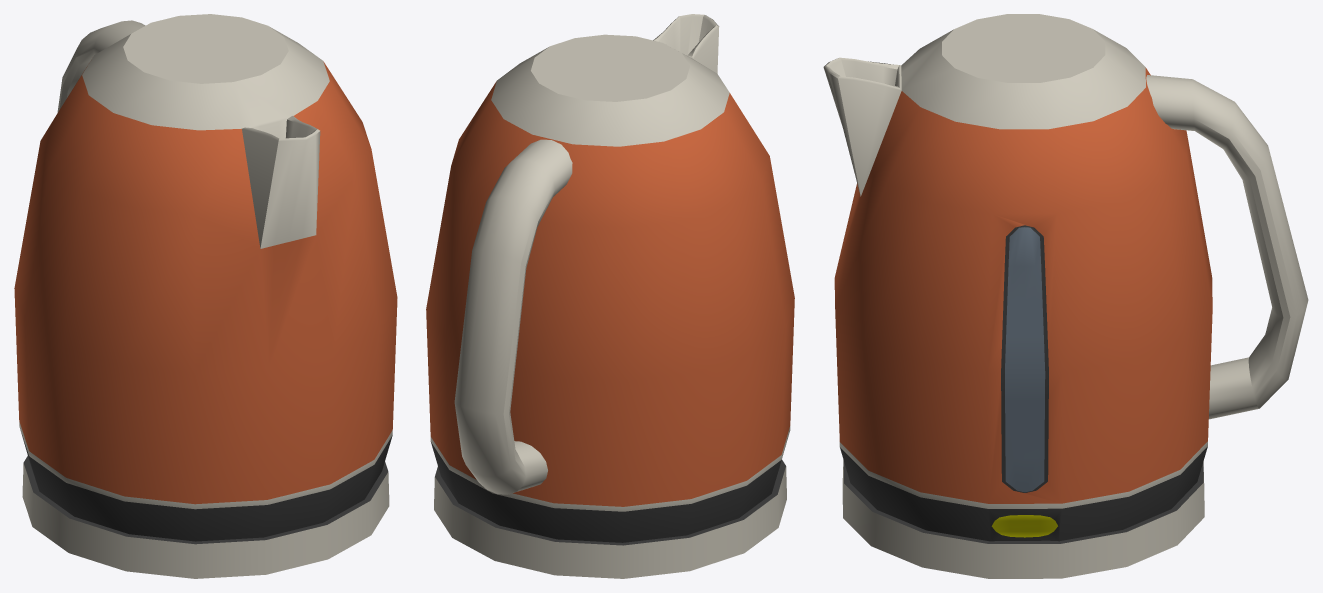
Rendered from kettle.fbx.
The picture shows the model from 3 angles, left to right: view 1: azimuth 30°, elevation 25°; view 2: azimuth 150°, elevation 25°; view 3: azimuth 270°, elevation 25°; orthographic projection. The views are drawn at different scales.
Visible parts, largest first — view 1: Kettle, KettleBase; view 2: Kettle, KettleBase; view 3: Kettle, KettleBase.
Boxes of the visible parts, box(x1,y1,x2,y2) form: Kettle: box(14, 14, 397, 541); KettleBase: box(22, 456, 389, 578); Kettle: box(426, 14, 794, 542); KettleBase: box(434, 460, 786, 578); Kettle: box(823, 14, 1308, 541); KettleBase: box(842, 460, 1204, 578).
Size of the model in its own units: 694 by 919 by 890.
